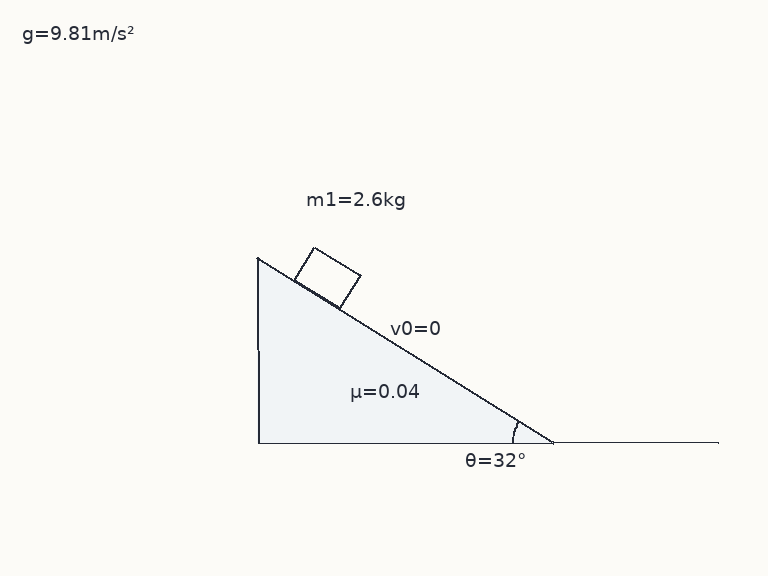block: (292, 245, 362, 310)
ramp: (256, 256, 555, 444)
